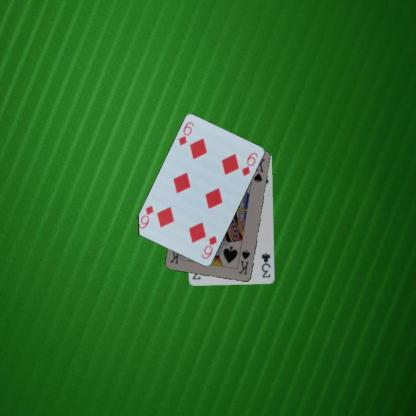3c: (259, 250, 271, 279)
6d: (199, 233, 218, 260), (177, 120, 196, 147)
Ks: (236, 247, 252, 276)
